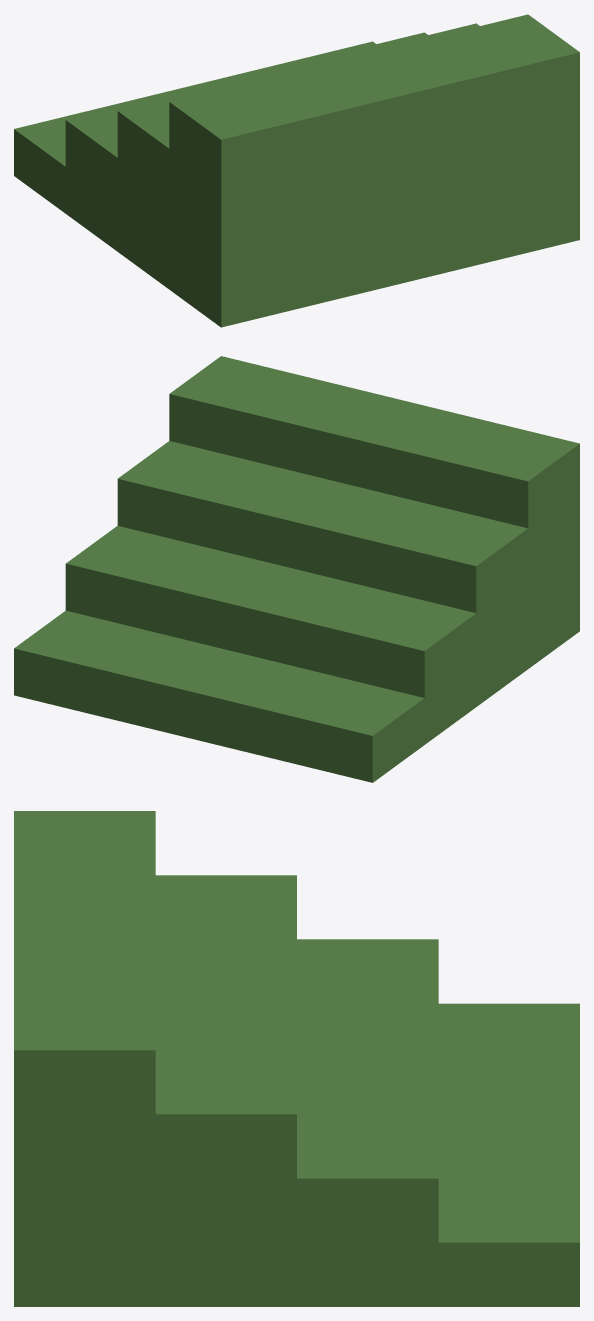
File: terrain-grass-stairs.lod0.glb
3 views of the same model, one above another, from view 1: azimuth 30°, elevation 25°; view 2: azimuth 150°, elevation 25°; view 3: azimuth 270°, elevation 25° (orthographic). The views are drawn at different scales.
Parts seen in each view (by area): view 1: terrain-grass-stairs__body; view 2: terrain-grass-stairs__body; view 3: terrain-grass-stairs__body.
Boxes of the visible parts, x1,y1,x2,y2 form: terrain-grass-stairs__body: (14,14,579,327); terrain-grass-stairs__body: (14,356,579,782); terrain-grass-stairs__body: (14,811,579,1306).
Size of the model in its own units: 2 by 1 by 2.
